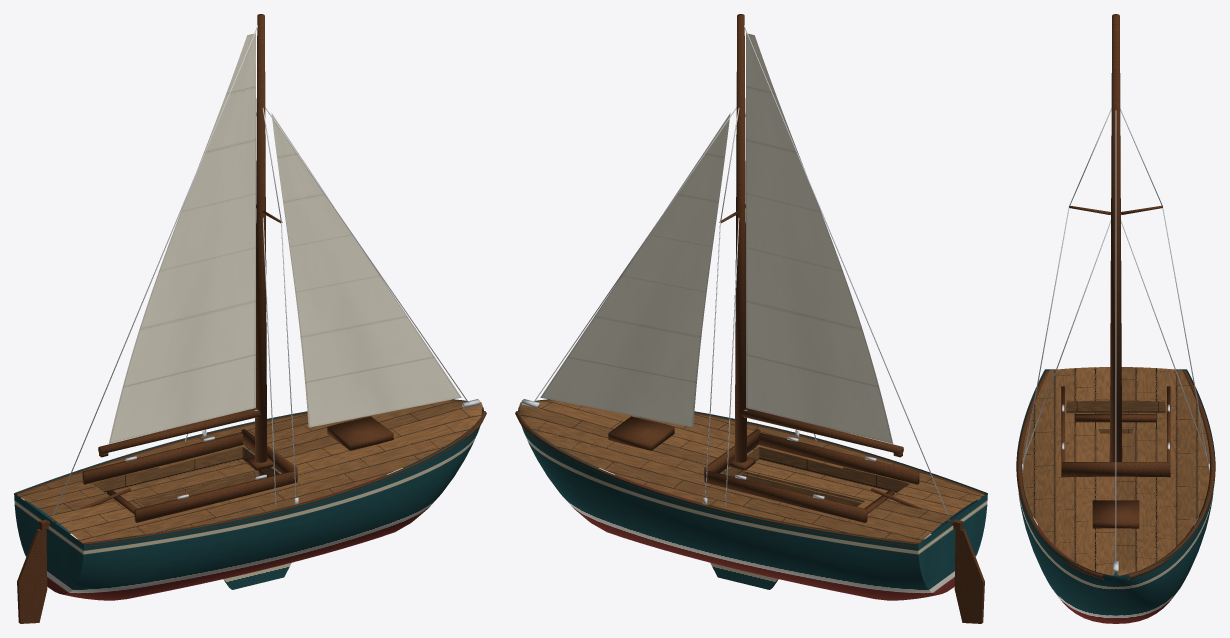
File: boat.glb
3 renders of one model, left to right at view 1: azimuth 30°, elevation 25°; view 2: azimuth 150°, elevation 25°; view 3: azimuth 270°, elevation 25°, orthographic.
Parts seen in each view (by area): view 1: mainsail, hull, jib, deck, mast and trim, rigging, rudder, boom; view 2: mainsail, hull, jib, deck, mast and trim, rigging, rudder, boom; view 3: deck, mast and trim, hull, rigging.
Part boxes in pixels (x1,y1,x2,y2): mainsail: (109, 33, 255, 443); hull: (14, 399, 483, 600); jib: (271, 113, 461, 427); deck: (17, 400, 482, 542); mast and trim: (16, 14, 486, 547); rigging: (53, 25, 480, 514); rudder: (17, 488, 130, 623); boom: (98, 408, 260, 457); mainsail: (746, 33, 892, 443); hull: (518, 399, 987, 600); jib: (540, 113, 730, 427); deck: (519, 400, 984, 542); mast and trim: (515, 14, 985, 547); rigging: (521, 25, 948, 515); rudder: (871, 488, 984, 623); boom: (741, 408, 903, 457); deck: (1022, 367, 1209, 575); mast and trim: (1016, 14, 1215, 579); hull: (1016, 369, 1215, 623); rigging: (1022, 108, 1209, 572).
Bounding box in the file's own units: 5.36 × 6.25 × 1.96.
Materials: 5 (4 with a texture image).
